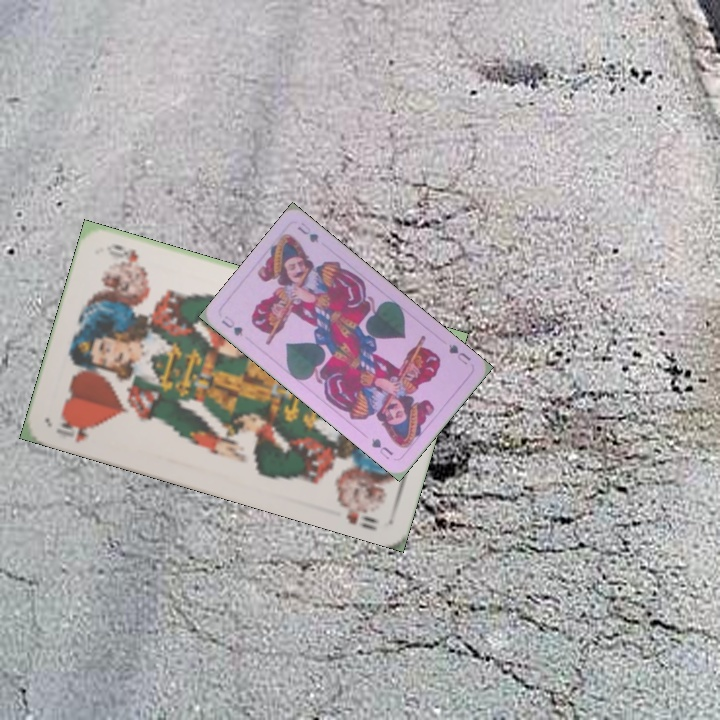GU: (217, 311, 246, 339), (444, 340, 473, 367)
HO: (52, 414, 96, 446)
